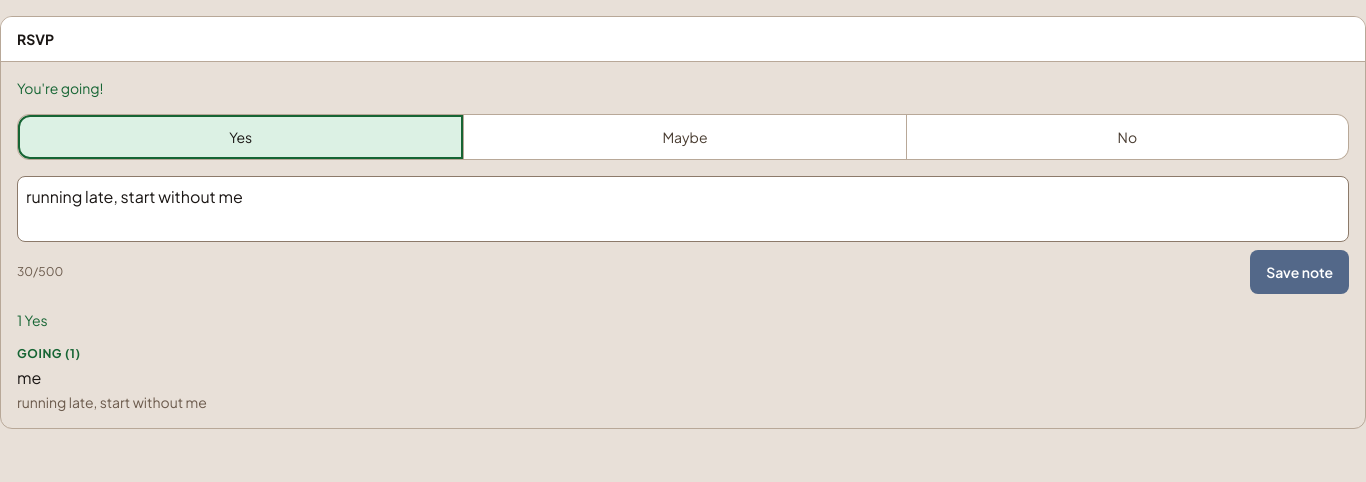
Test case: RsvpSection W44/P3 — the outcome regions › the failure TEXT lands in that same already-mounted region
Click the button "No".
click(1127, 137)  # box [906,115,1348,159]
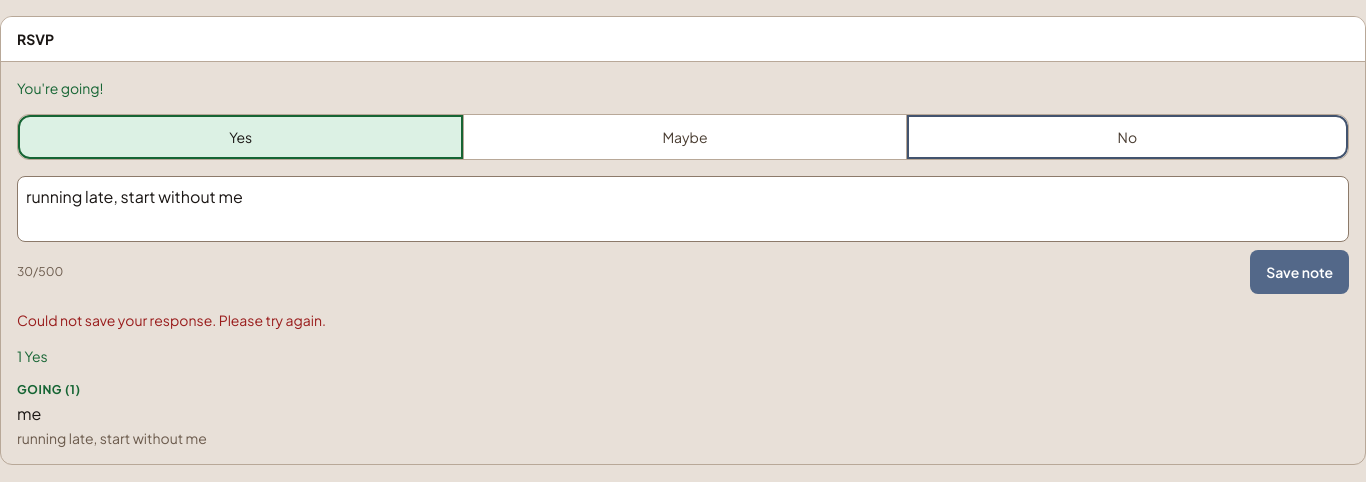
Now the message shows "Could not save your response", box [17,311,326,329]
